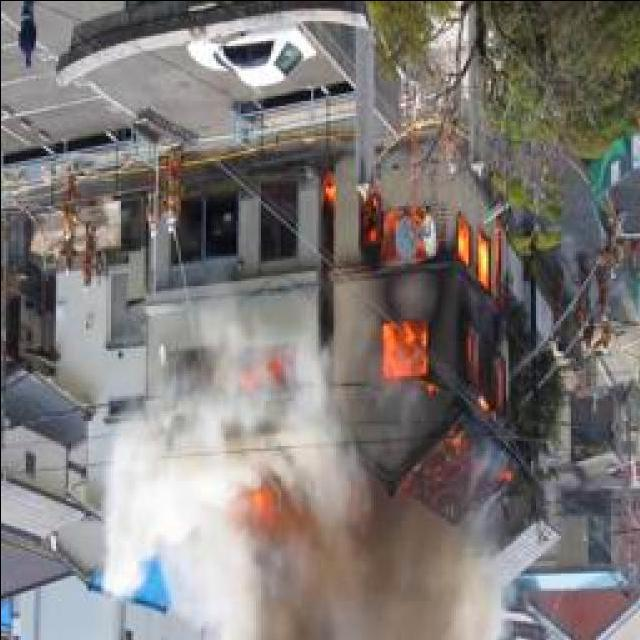Fire: (307, 171, 557, 487)
